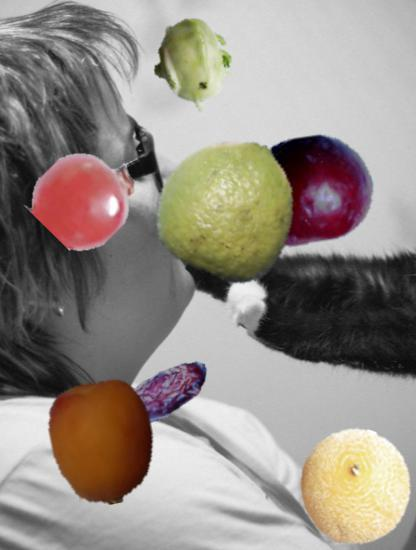Apricot: (40, 379, 167, 506)
Banana: (38, 411, 132, 505)
Cantaloupe: (296, 428, 414, 546)
Dates: (123, 345, 214, 436)
Kohlrabi: (145, 17, 242, 114)
Limes: (156, 136, 304, 284)
Plum: (246, 126, 375, 255)
Redcurrant: (36, 146, 137, 247)
